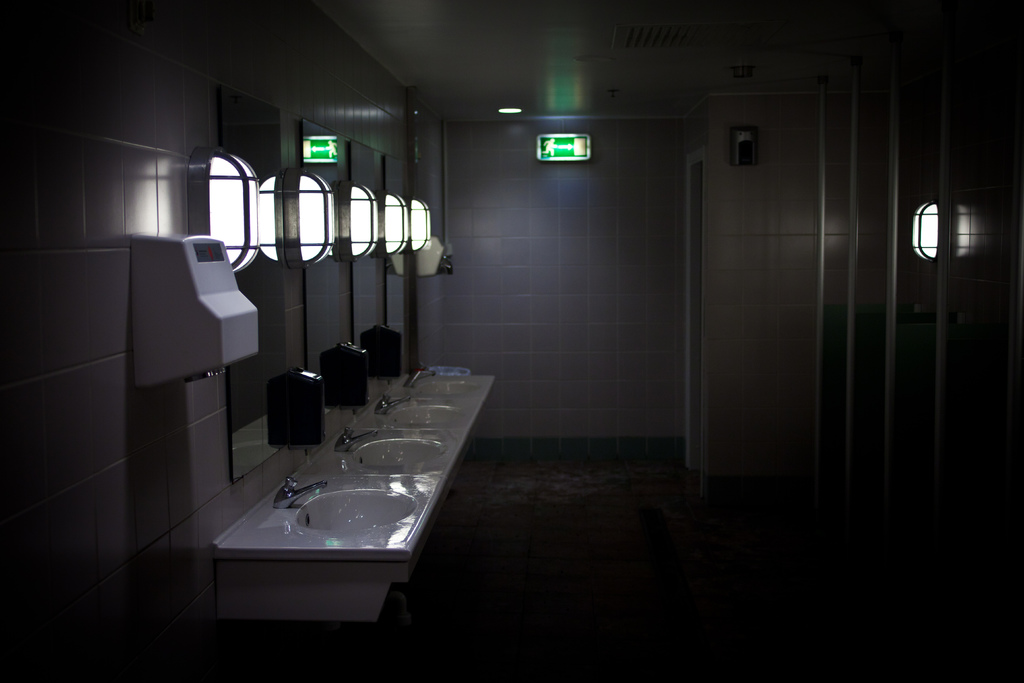tap: (268, 480, 327, 506), (330, 427, 380, 455), (401, 360, 439, 386), (372, 393, 416, 413)
